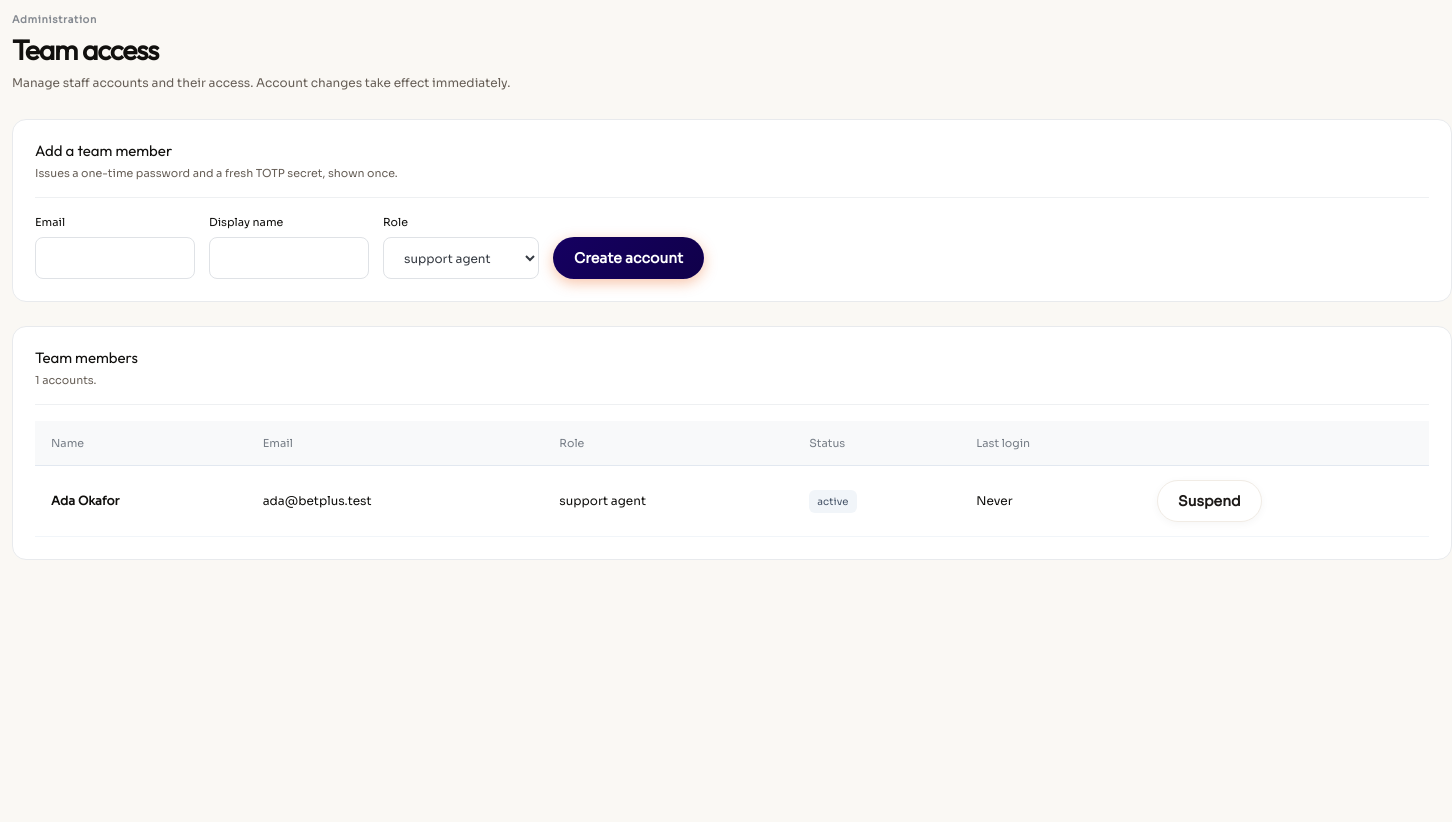
Test: UsersConsole › creates a real account and surfaces the one-time password exactly once
expect the column heading "Ada Okafor" is shown: met, box [35, 466, 247, 537]
Step 1. Type "new@betplus.test" into the field labelled "Email" → coordinates (115, 258), box [35, 237, 195, 279]
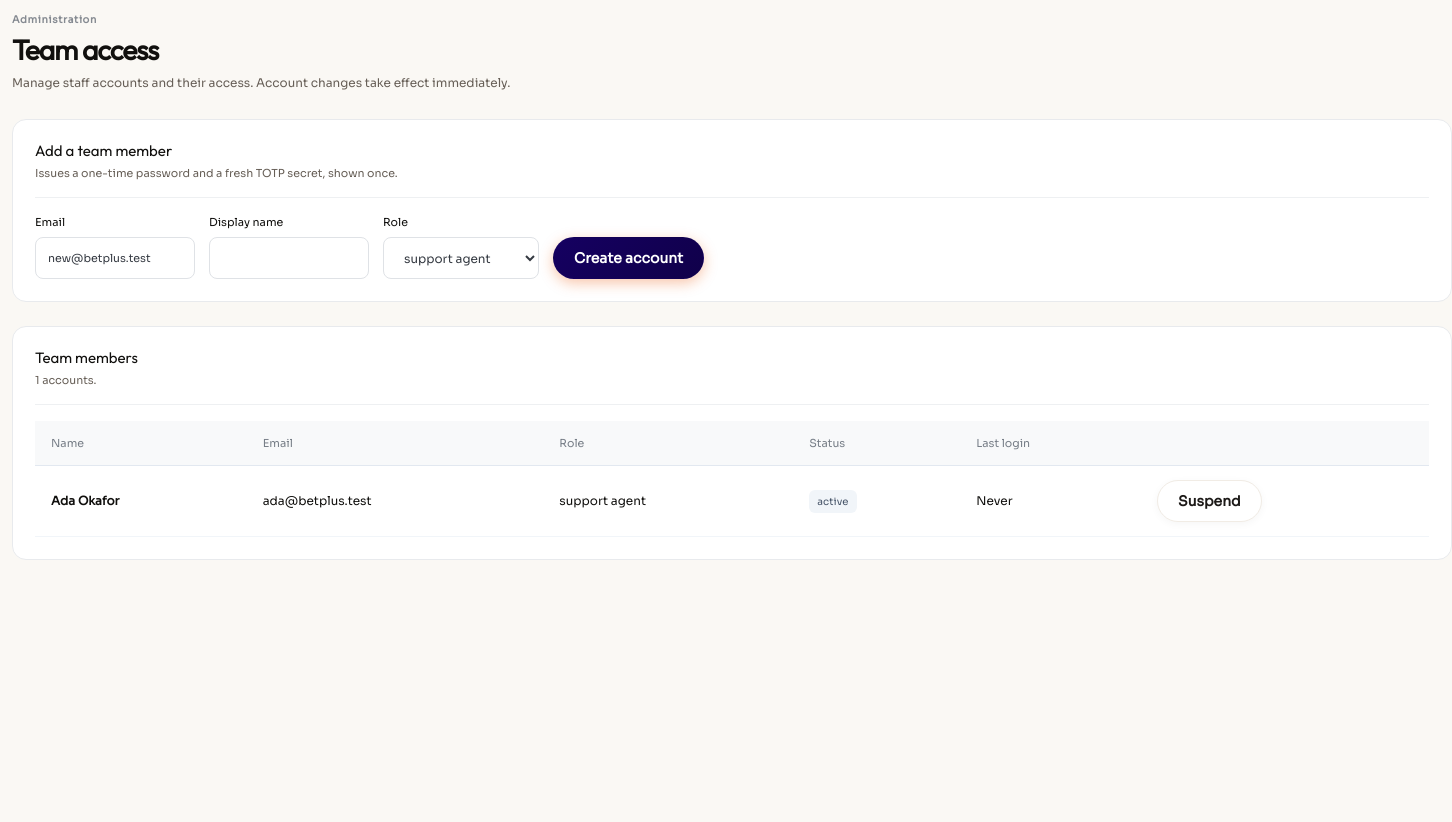
Step 2. Type "New Operator" into the field labelled "Display name" → coordinates (289, 258), box [209, 237, 369, 279]
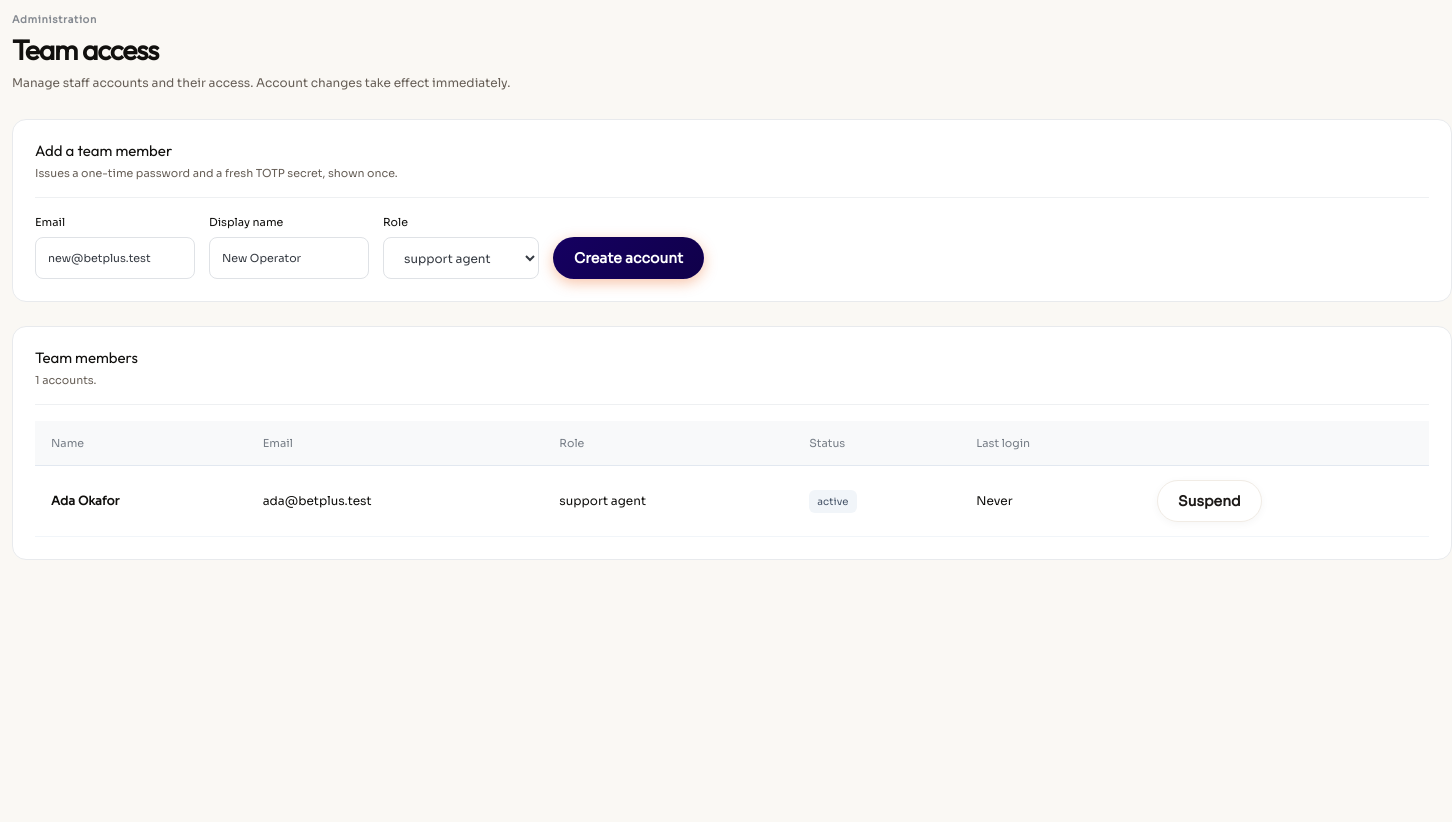
Step 3. Click the button "Create account" → coordinates (629, 258), box [553, 237, 704, 279]
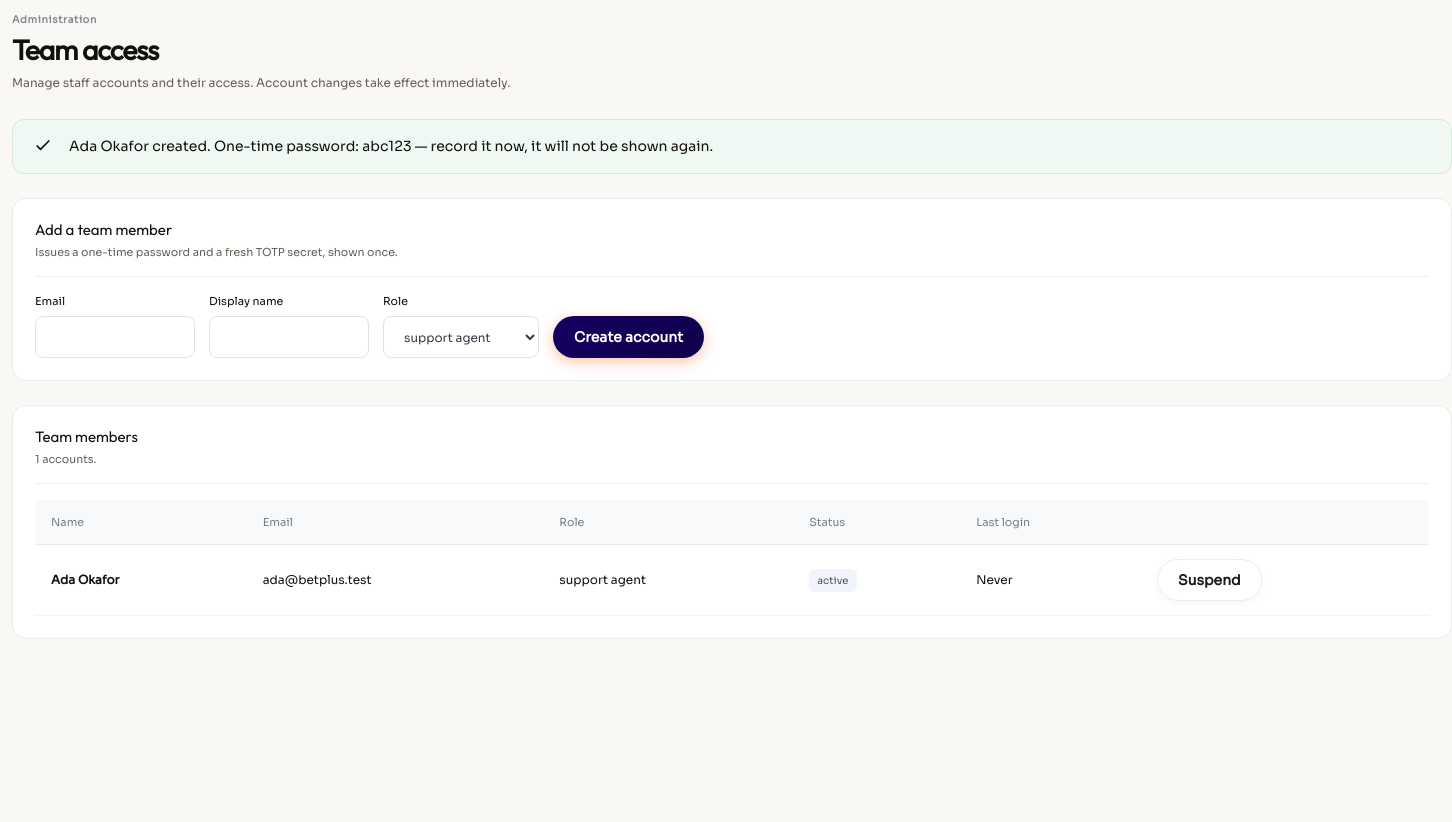
expect the message shows "One-time password: abc123": met, box [69, 137, 713, 155]
